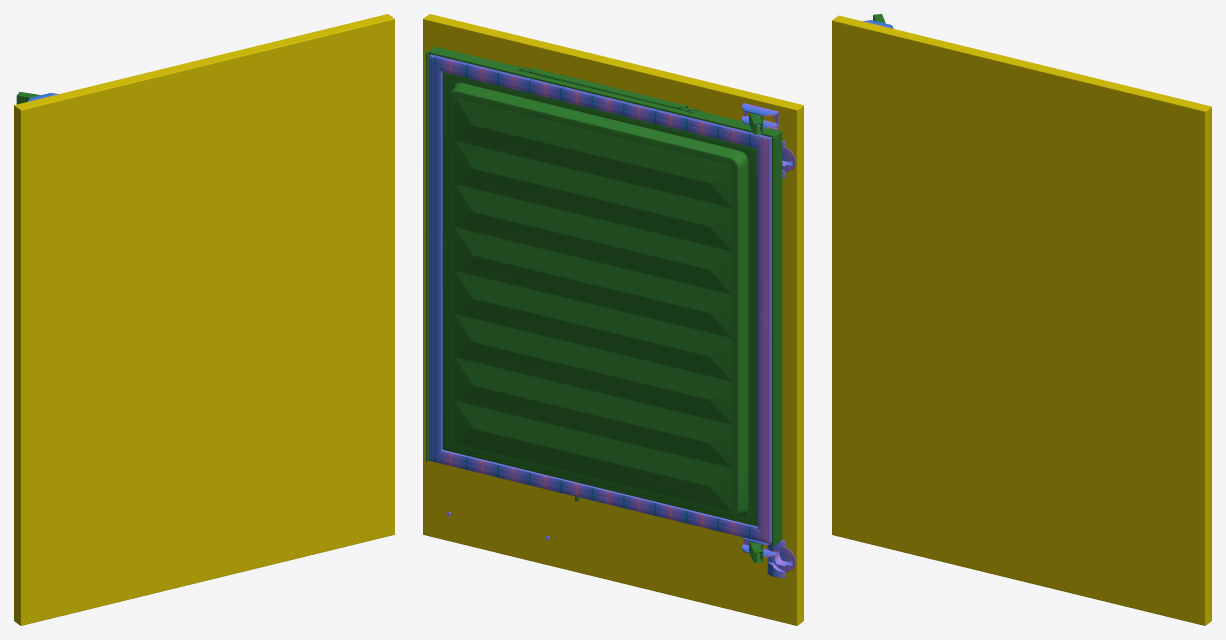
File: SM_Fridge_Door_02.fbx
3 renders of one model, left to right at view 1: azimuth 30°, elevation 25°; view 2: azimuth 150°, elevation 25°; view 3: azimuth 330°, elevation 25°, orthographic.
Parts seen in each view (by area): view 1: SM_Fridge_Door_02; view 2: SM_Fridge_Door_02; view 3: SM_Fridge_Door_02.
Boxes of the visible parts, x1,y1,x2,y2 form: SM_Fridge_Door_02: [14, 14, 394, 625]; SM_Fridge_Door_02: [423, 14, 803, 625]; SM_Fridge_Door_02: [832, 14, 1211, 625].
Bounding box in the file's own units: 59.69 × 78.65 × 7.4.
4 materials, 2 textured.
